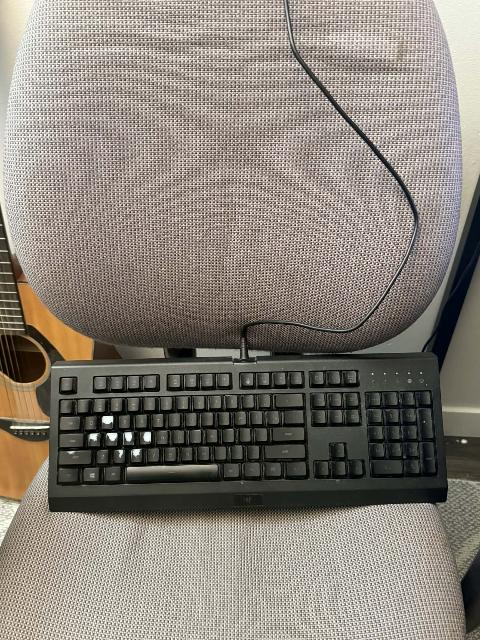ahkeyboard: (28, 332, 454, 525)
